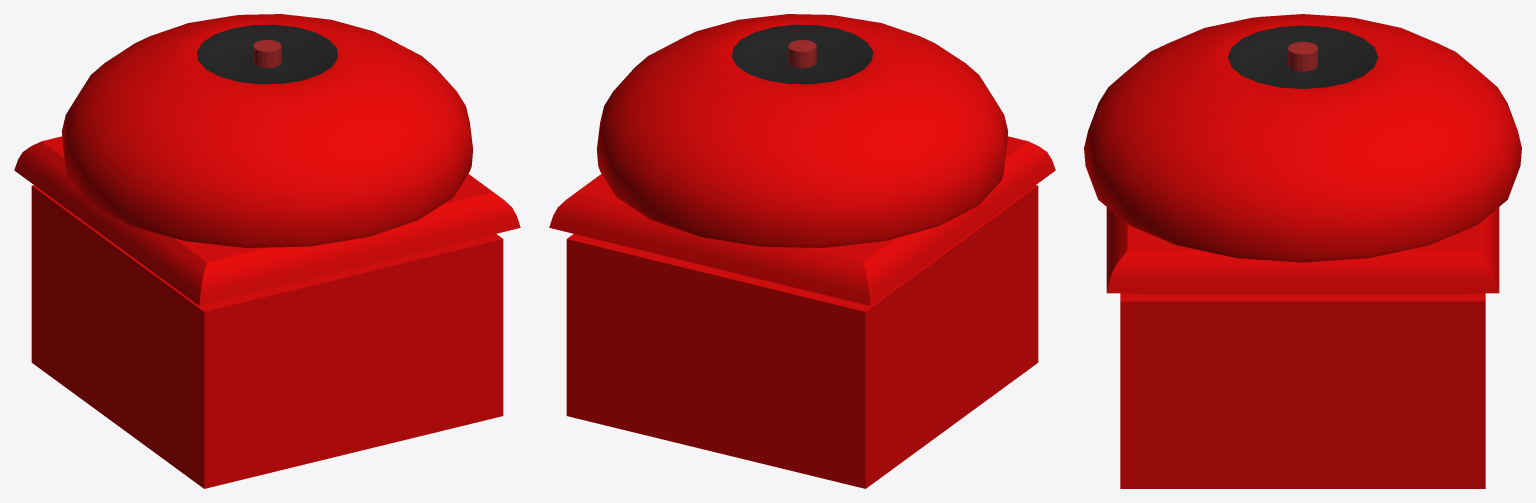
File: Fire Alarm.fbx
The picture shows the model from 3 angles, left to right: view 1: azimuth 30°, elevation 25°; view 2: azimuth 150°, elevation 25°; view 3: azimuth 270°, elevation 25°; orthographic projection. The views are drawn at different scales.
Parts seen in each view (by area): view 1: pSphere2; view 2: pSphere2; view 3: pSphere2.
Part boxes in pixels (x1=…): pSphere2: x1=14, y1=14, x2=520, y2=488; pSphere2: x1=549, y1=14, x2=1055, y2=488; pSphere2: x1=1084, y1=14, x2=1521, y2=488.
Bounding box in the file's own units: 3.27 × 3 × 3.27.
